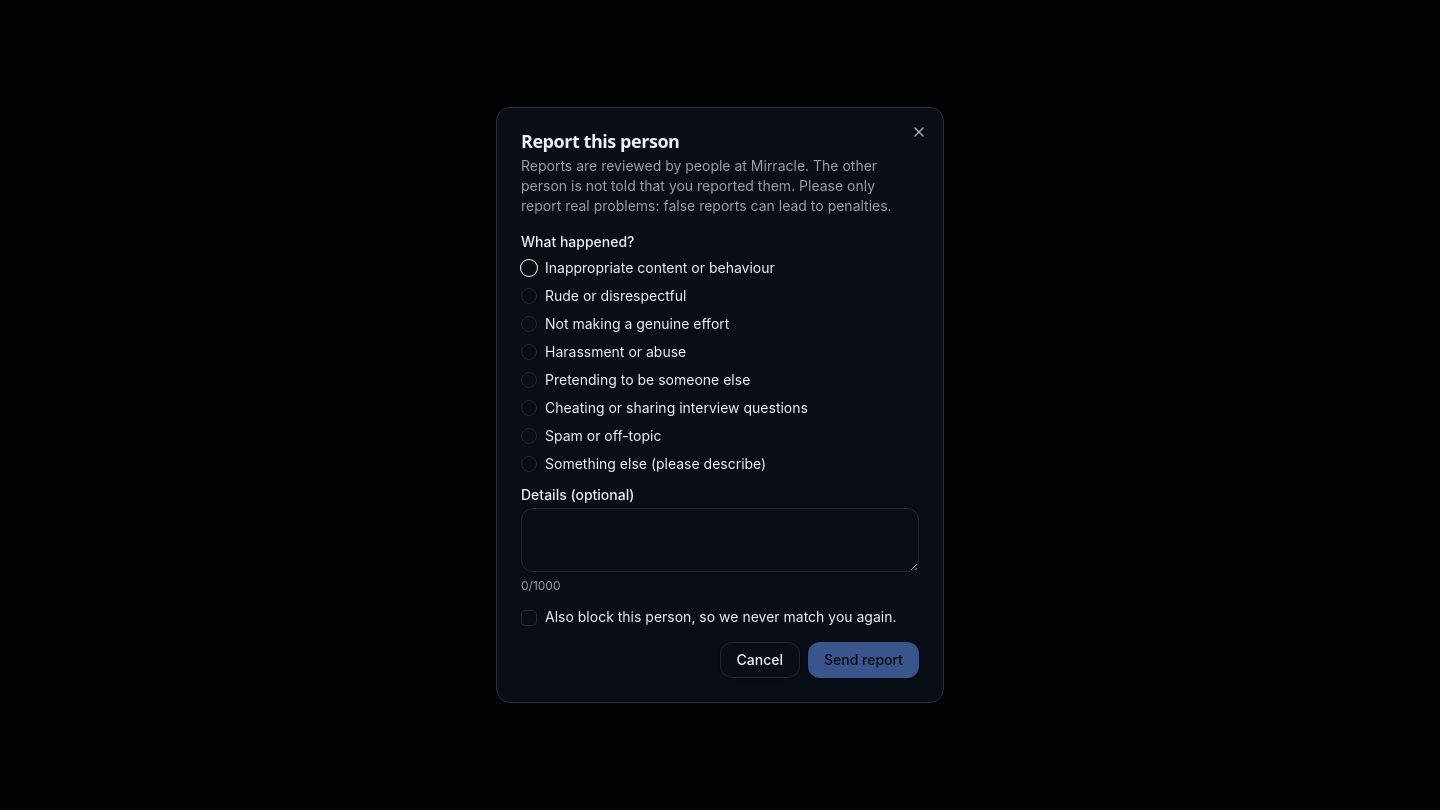
Test: PeerReportDialog › shows the server's reason when it fails and lets the person try again
The width and height of the screenshot is (1440, 810).
Click the radio button named "Spam or off-topic" next to "Spam or off-topic" at (529, 436), box x1=521 y1=428 x2=537 y2=444
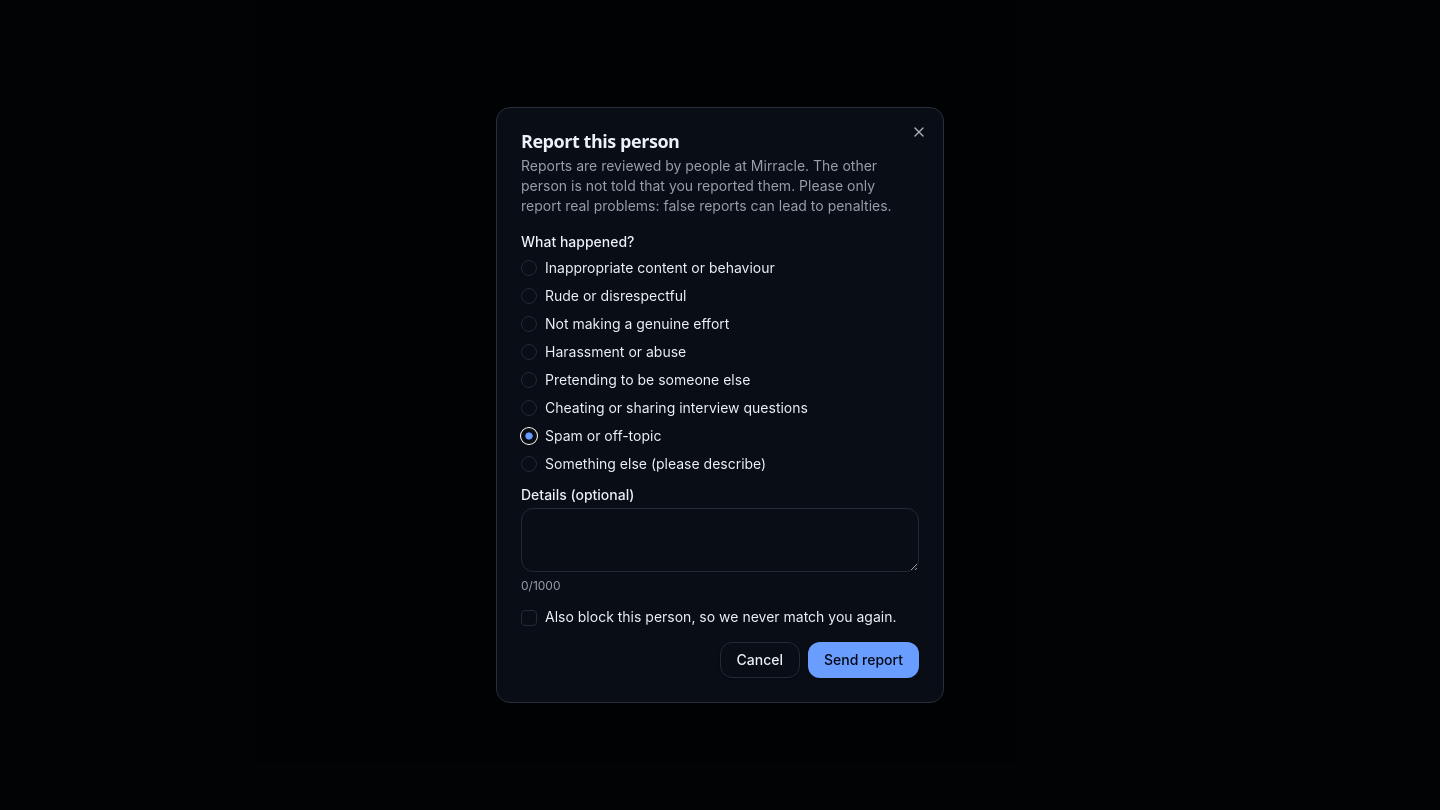
Click the button "Send report" at (864, 660), box x1=808 y1=642 x2=919 y2=678
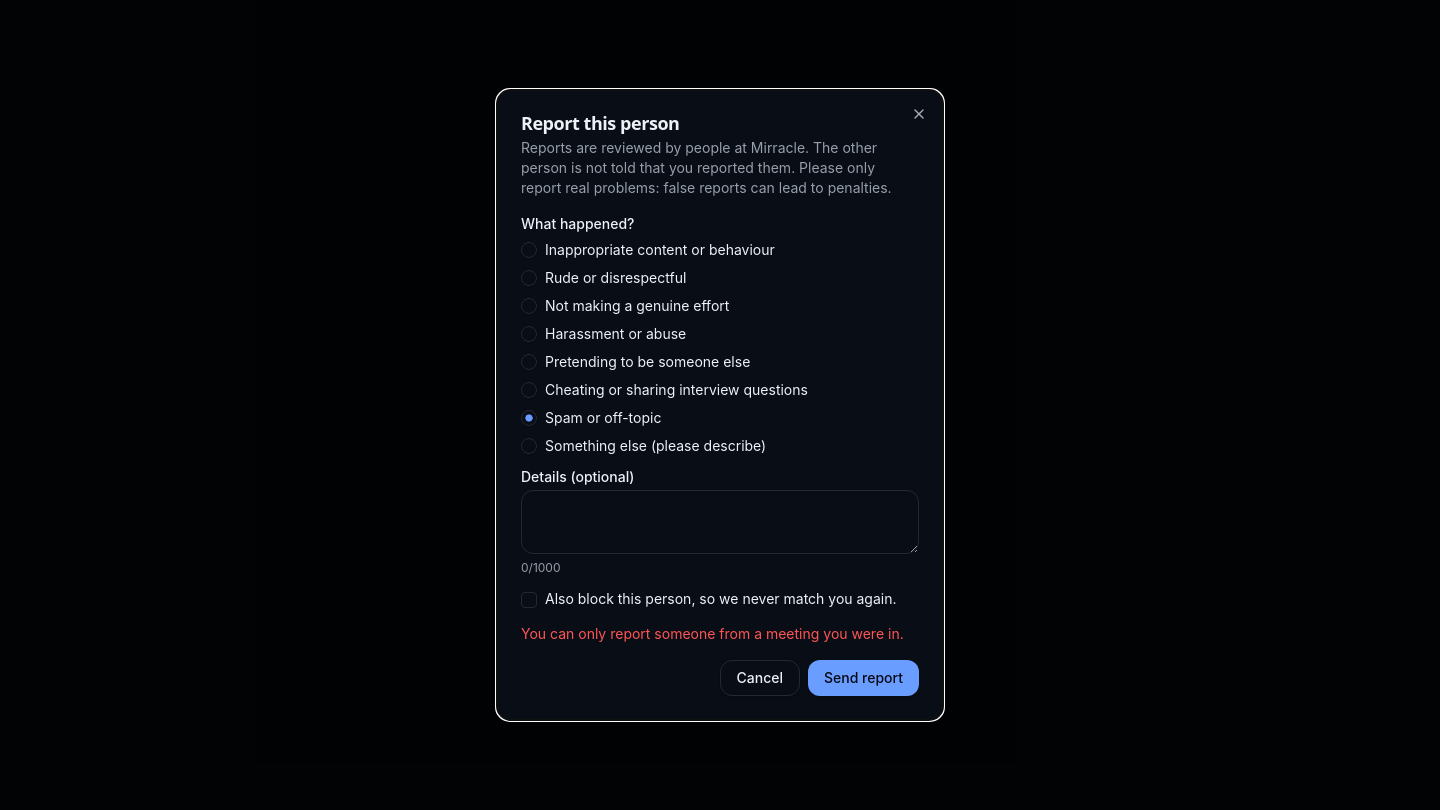
Now the button "Send report" is enabled, box x1=808 y1=660 x2=919 y2=696
Now the message shows "only report someone from a meeting", box x1=521 y1=625 x2=904 y2=642
